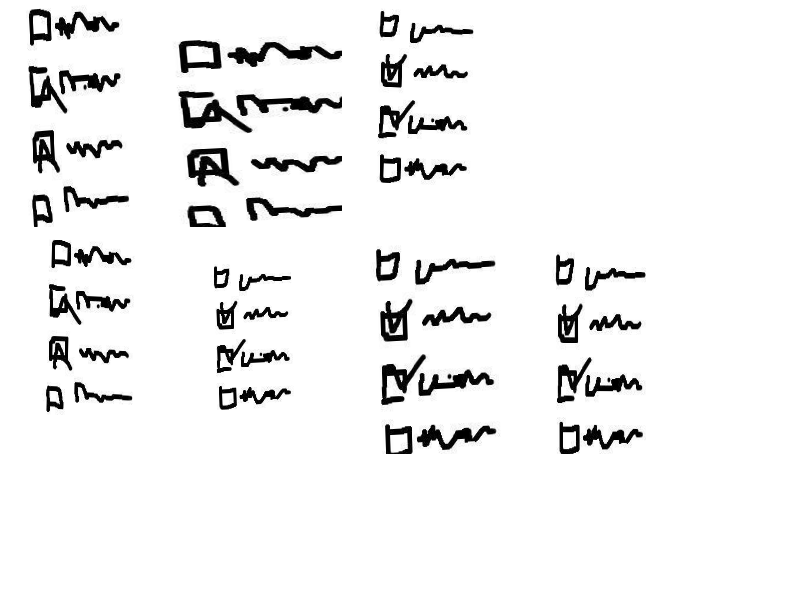button: (0, 0, 171, 227), (171, 0, 342, 227), (342, 0, 513, 227), (0, 227, 171, 454), (171, 227, 342, 454), (342, 227, 513, 454), (513, 227, 684, 454)
